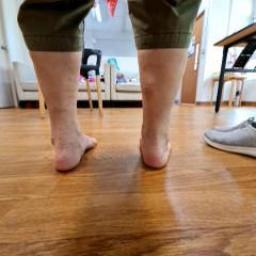Back View -Both Feet-: (31, 96, 183, 185)
